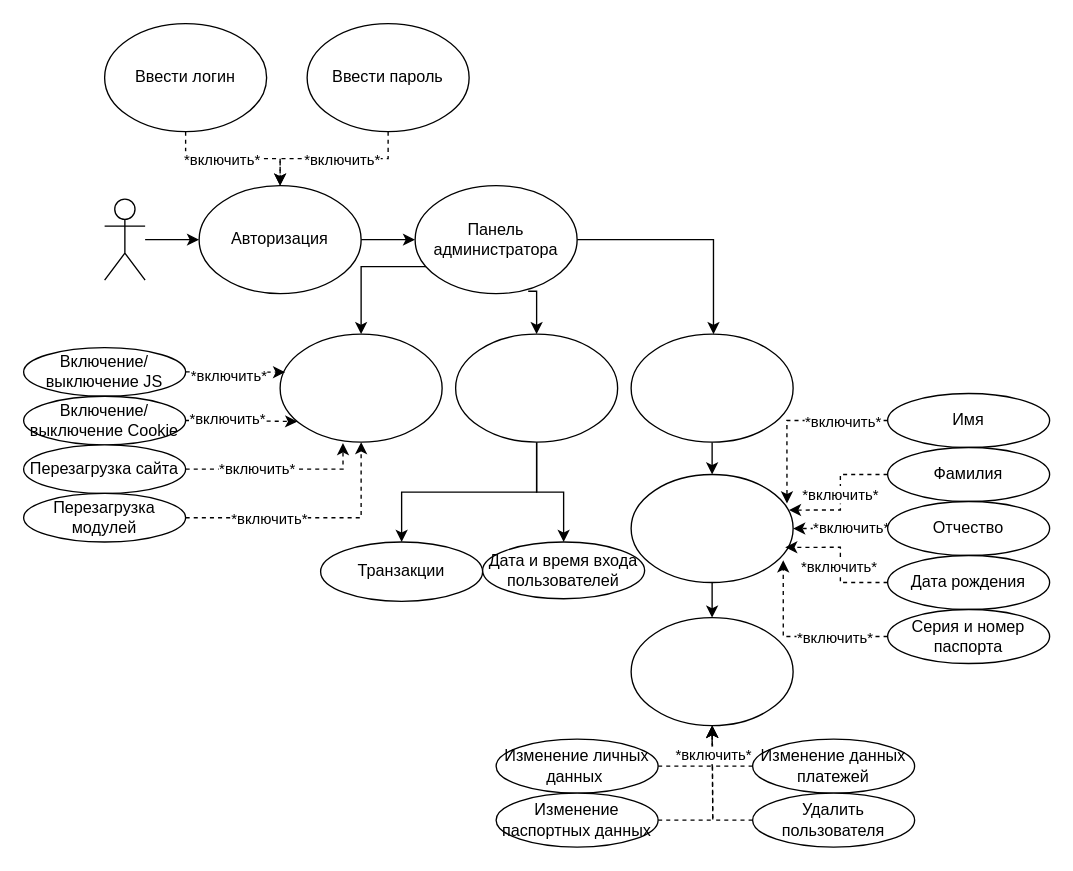
The diagram is 1073 pixels wide and 871 high, and some of its shapes have lost their labels. The shapes that lost their labels are listed below. From the top down, each one's centre as x and y in pixels, then its label:
At pixel 124 239: "Администратор".
At pixel 360 387: "Настройки сайта".
At pixel 536 387: "Мониторинг".
At pixel 711 387: "Управление пользователями".
At pixel 711 528: "Просмотр пользователей".
At pixel 711 671: "Изменение данных пользователя".
